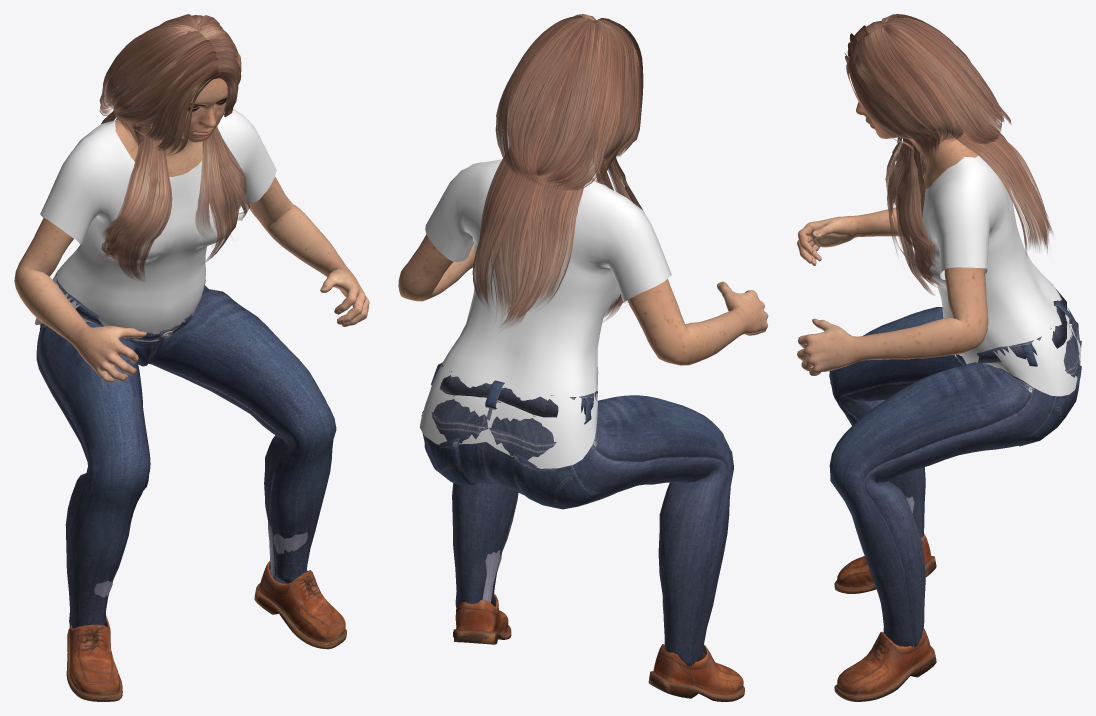
Rendered from donna-05.glb.
3 views of the same model, side by side, from view 1: azimuth 30°, elevation 25°; view 2: azimuth 150°, elevation 25°; view 3: azimuth 270°, elevation 25° (orthographic). The views are drawn at different scales.
Parts seen in each view (by area): view 1: Human.punkduck_female_tight_jeans, Human.joepal_crude_t-shirt_female, Human.elvs_daisy_hair, Human, Human.shoes01; view 2: Human.punkduck_female_tight_jeans, Human.joepal_crude_t-shirt_female, Human.elvs_daisy_hair, Human, Human.shoes01; view 3: Human.punkduck_female_tight_jeans, Human.elvs_daisy_hair, Human.joepal_crude_t-shirt_female, Human, Human.shoes01.
Boxes of the visible parts, <box> form: Human.punkduck_female_tight_jeans: <box>36,273,336,628</box>; Human.joepal_crude_t-shirt_female: <box>34,109,276,341</box>; Human.elvs_daisy_hair: <box>99,14,249,281</box>; Human: <box>14,32,369,382</box>; Human.shoes01: <box>66,522,346,701</box>; Human.punkduck_female_tight_jeans: <box>421,362,733,666</box>; Human.joepal_crude_t-shirt_female: <box>419,159,671,468</box>; Human.elvs_daisy_hair: <box>472,14,644,327</box>; Human: <box>398,79,768,365</box>; Human.shoes01: <box>453,550,744,701</box>; Human.punkduck_female_tight_jeans: <box>829,288,1081,647</box>; Human.elvs_daisy_hair: <box>844,14,1053,295</box>; Human.joepal_crude_t-shirt_female: <box>914,153,1081,396</box>; Human: <box>797,102,988,375</box>; Human.shoes01: <box>834,496,936,701</box>.
Bounding box in the file's own units: 0.6082 × 1.28 × 0.5356.
Materials: 13 (13 with a texture image).
